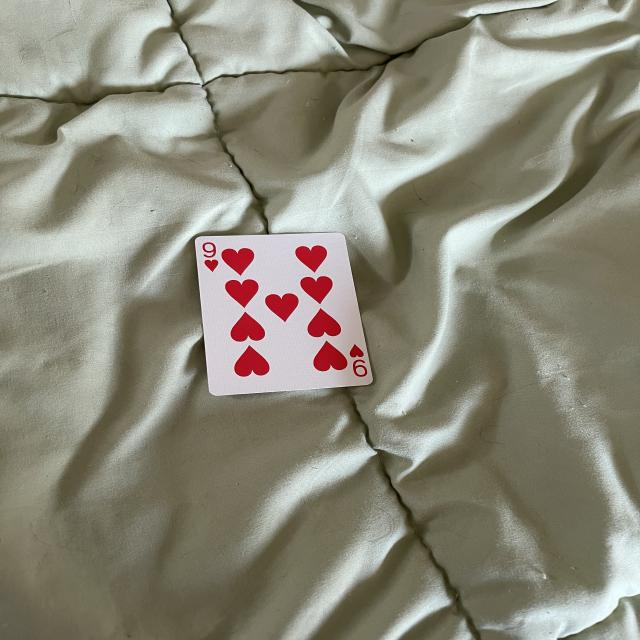9 of hearts: (195, 232, 377, 394)
